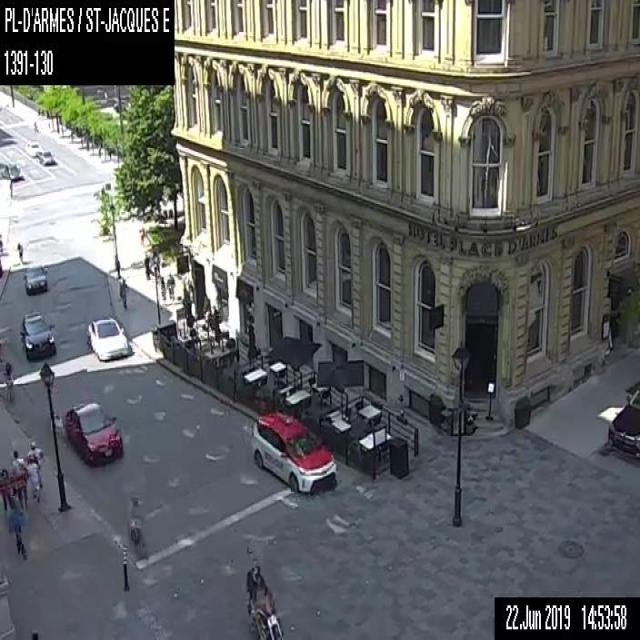cyclist: (126, 494, 146, 556), (32, 120, 40, 135)
pedestrian: (8, 448, 28, 512), (26, 438, 43, 492), (26, 452, 40, 501), (0, 464, 14, 512), (2, 359, 15, 404), (118, 276, 127, 311), (166, 272, 174, 300), (143, 252, 151, 279), (158, 275, 166, 300), (16, 242, 24, 266), (138, 223, 146, 245), (0, 232, 4, 253)
vehicle: (249, 409, 339, 495), (64, 399, 124, 463), (245, 556, 282, 638), (605, 381, 639, 459), (86, 313, 130, 360), (18, 311, 56, 361), (23, 261, 49, 296), (24, 139, 42, 157), (8, 161, 22, 181), (38, 150, 54, 164)
